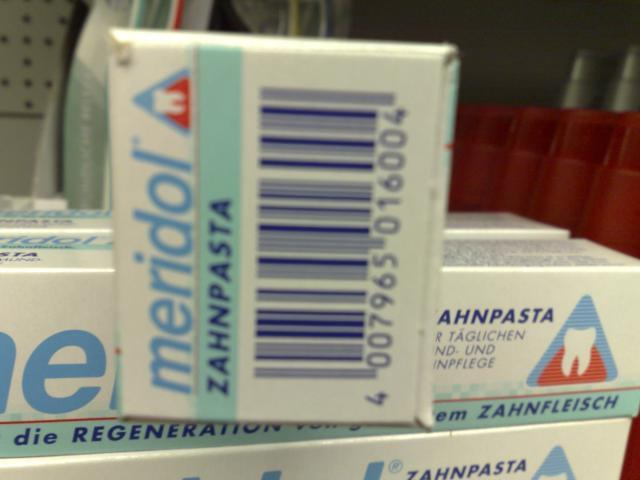Barcode: (244, 75, 419, 418)
